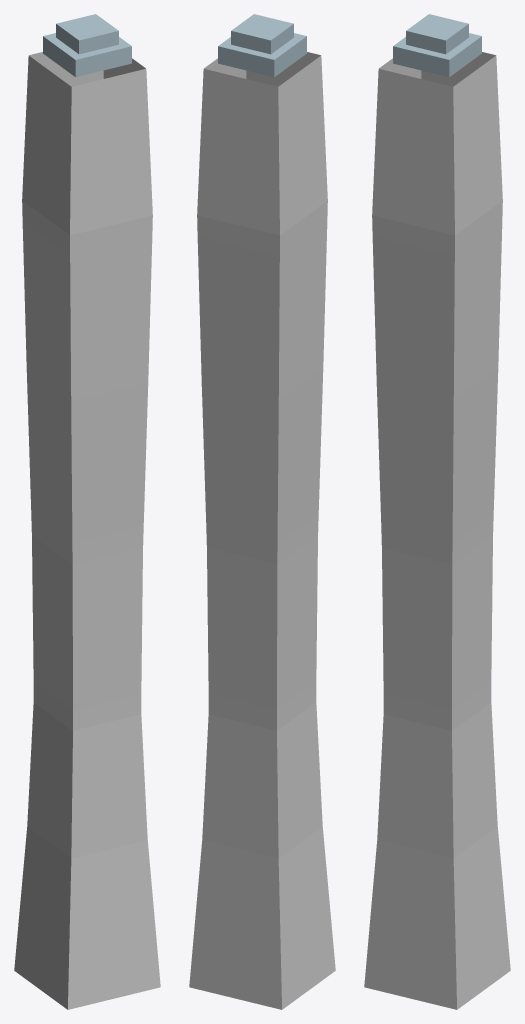
File: chinazun.glb
3 views of the same model, side by side, from view 1: azimuth 30°, elevation 25°; view 2: azimuth 150°, elevation 25°; view 3: azimuth 330°, elevation 25° (orthographic).
Visible parts, largest first — view 1: chinazun; view 2: chinazun; view 3: chinazun.
Boxes of the visible parts, x1,y1,x2,y2 form: chinazun: (14, 14, 160, 1009); chinazun: (189, 14, 335, 1009); chinazun: (364, 14, 510, 1009).
Bounding box in the file's own units: 55.99 × 548 × 55.99.
